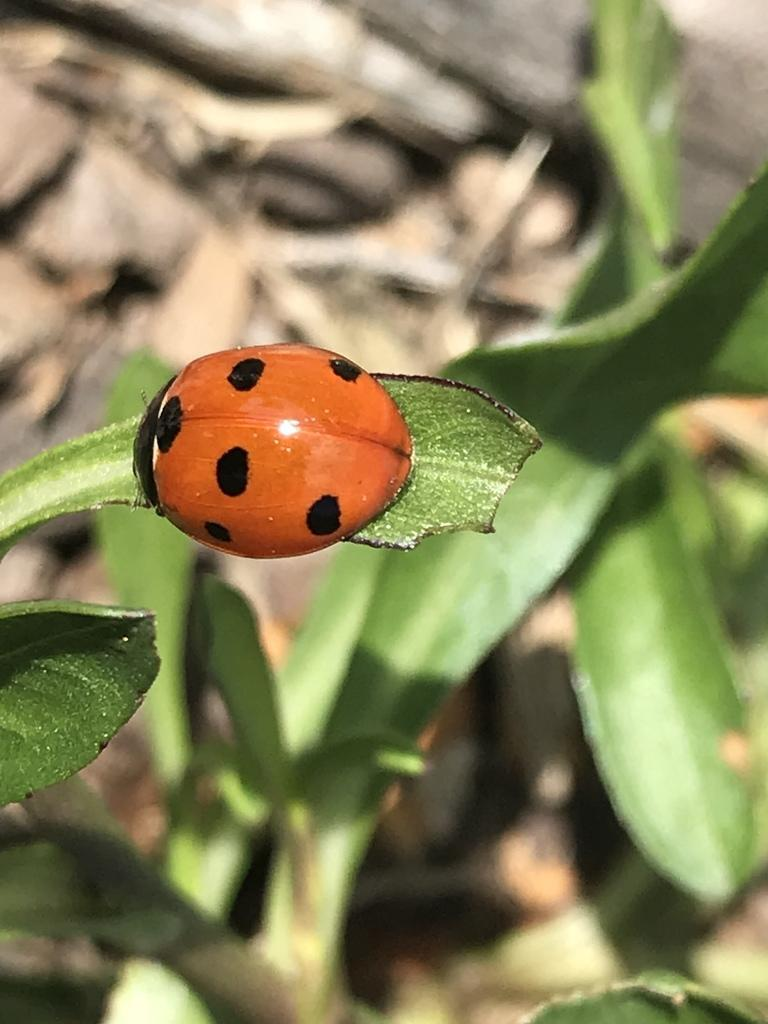ladybug: (101, 336, 416, 564)
